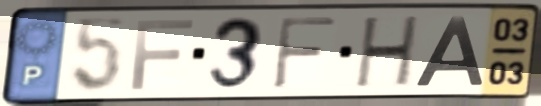3: (205, 13, 271, 95)
5: (70, 14, 128, 96)
A: (410, 14, 487, 89)
F: (268, 14, 340, 92), (128, 17, 198, 93)
H: (351, 13, 424, 92)
